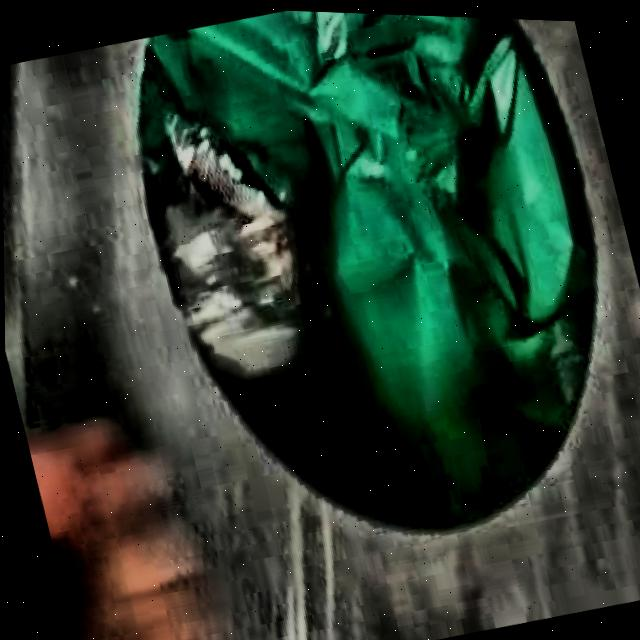metal: (153, 116, 299, 377)
